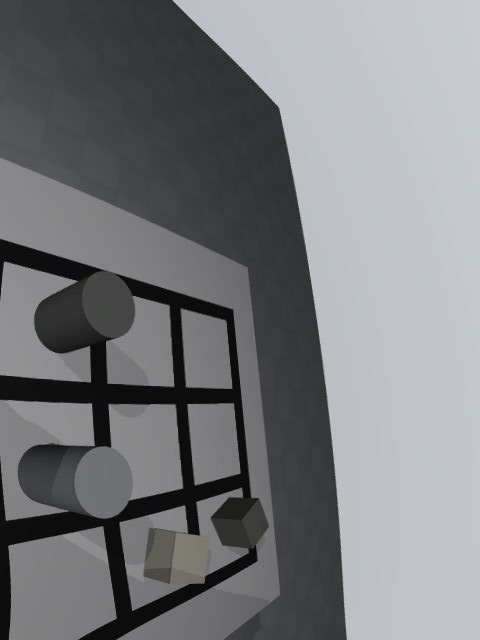can: (17, 444, 133, 519)
cube: (211, 497, 269, 549)
cylinder: (34, 271, 135, 353)
foam: (143, 528, 210, 584)
